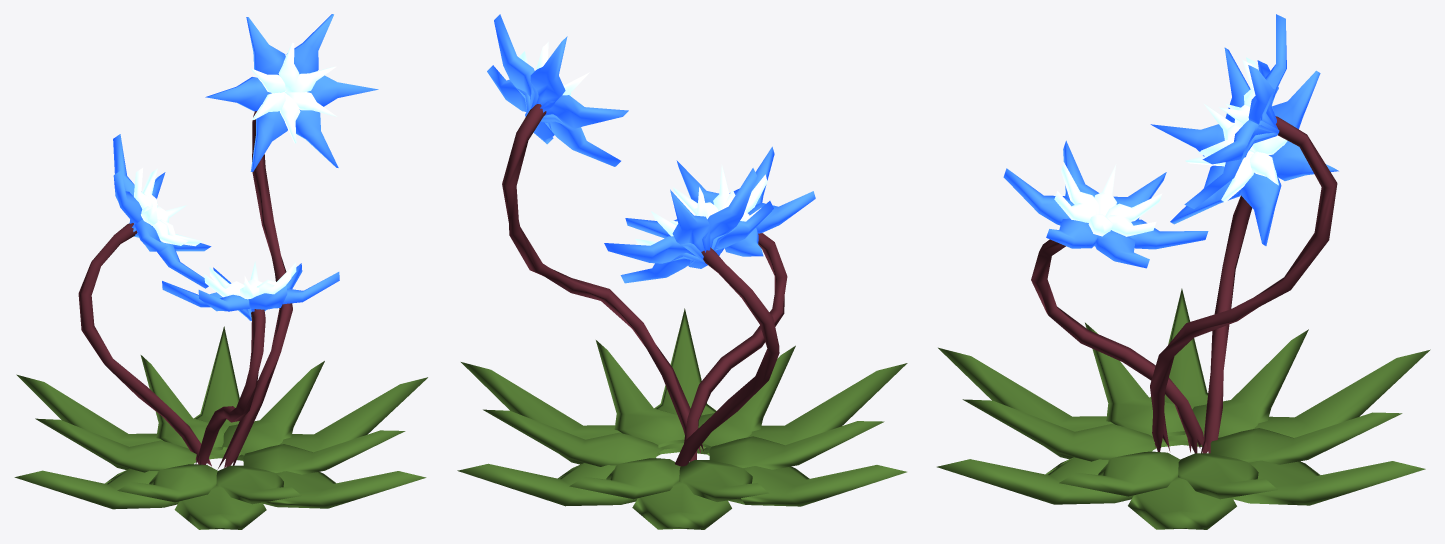
The model's file is cursedBFlower.fbx.
The picture shows the model from 3 angles, left to right: view 1: azimuth 30°, elevation 25°; view 2: azimuth 150°, elevation 25°; view 3: azimuth 270°, elevation 25°; orthographic projection. The views are drawn at different scales.
Parts seen in each view (by area): view 1: Plane.002; view 2: Plane.002; view 3: Plane.002.
Boxes of the visible parts, left/top/right/bottom form: Plane.002: left=14, top=14, right=427, bottom=529; Plane.002: left=457, top=14, right=907, bottom=529; Plane.002: left=937, top=14, right=1430, bottom=529.
Size of the model in its own units: 316 by 303 by 275.
